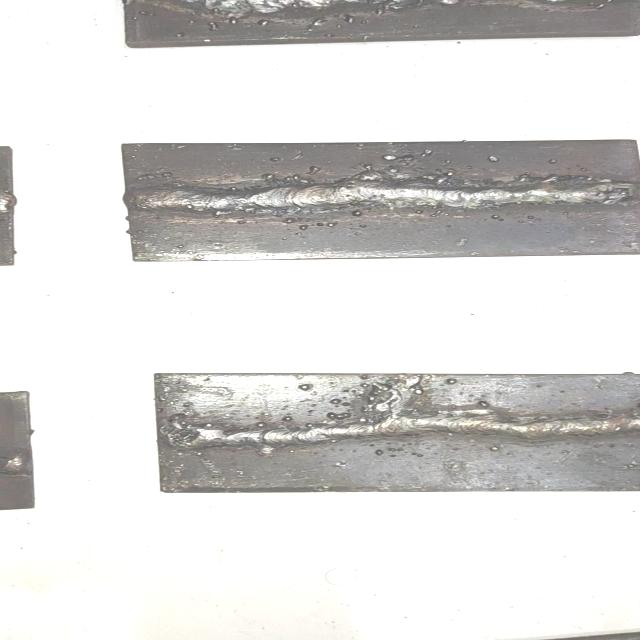Bad Weld: (132, 178, 639, 214), (160, 411, 640, 449)
Defect: (196, 0, 441, 32), (359, 374, 434, 443), (347, 152, 436, 185), (590, 166, 640, 208), (159, 416, 209, 456), (264, 169, 319, 190)
